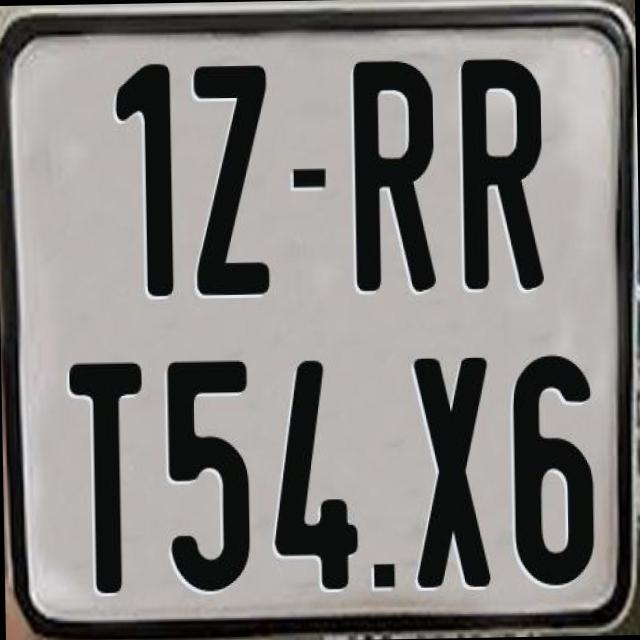1: (112, 59, 178, 294)
4: (268, 357, 356, 592)
5: (164, 356, 250, 590)
6: (510, 350, 600, 590)
R: (352, 61, 440, 296), (459, 59, 545, 295)
T: (68, 356, 148, 592)
X: (409, 354, 488, 594)
Z: (192, 63, 272, 303)
